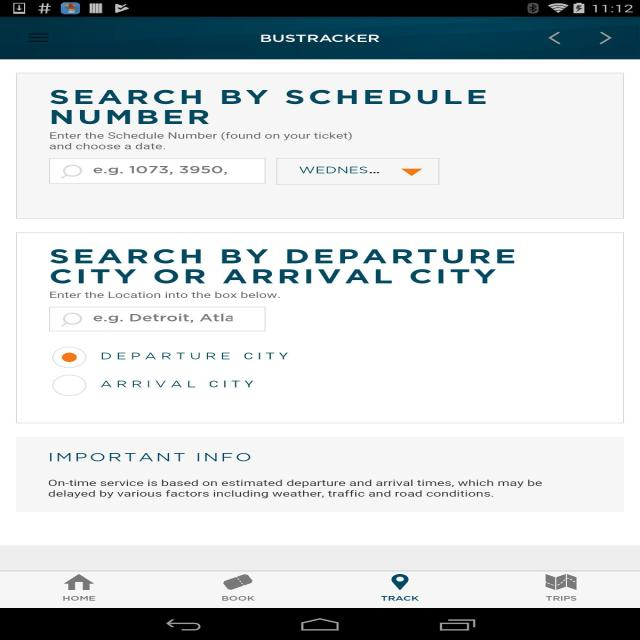button: (277, 158, 441, 186), (43, 573, 117, 608), (208, 571, 272, 607), (534, 571, 594, 607), (369, 572, 432, 606), (540, 28, 572, 52), (23, 27, 50, 49), (589, 28, 613, 52)
field: (54, 157, 266, 185), (53, 307, 263, 332)
heading: (44, 245, 521, 288), (48, 84, 486, 127), (44, 450, 260, 466), (253, 30, 387, 45)
label: (86, 311, 236, 327), (87, 163, 231, 178)
text: (48, 478, 547, 499), (46, 129, 354, 153), (42, 291, 280, 302)
